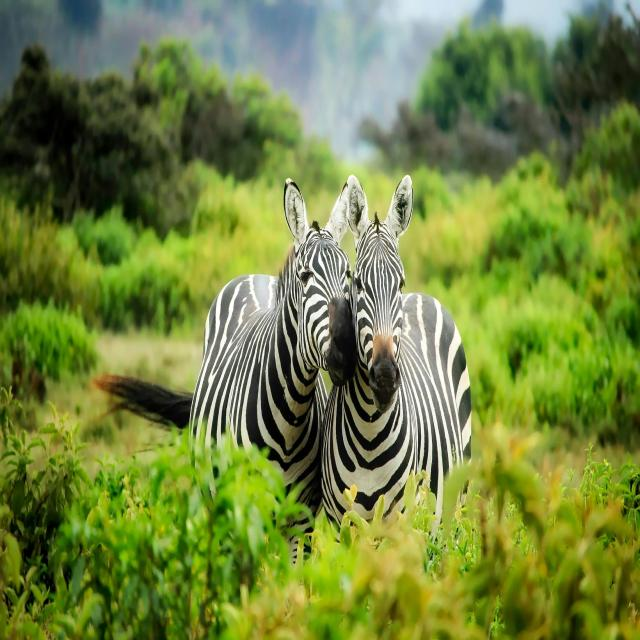Zebra: (190, 175, 359, 568), (320, 172, 472, 564)
